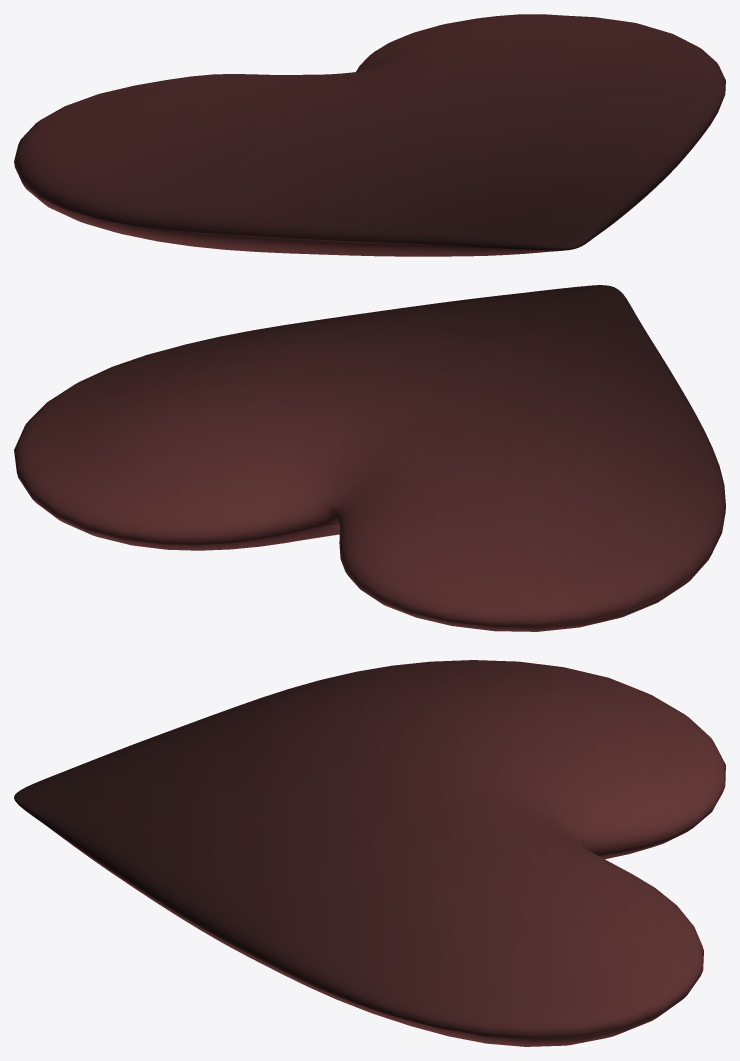
The model's file is heart.glb.
3 renders of one model, top to bottom at view 1: azimuth 30°, elevation 25°; view 2: azimuth 150°, elevation 25°; view 3: azimuth 270°, elevation 25°, orthographic. The views are drawn at different scales.
Visible parts, largest first — view 1: cc_t_heart8; view 2: cc_t_heart8; view 3: cc_t_heart8.
Boxes of the visible parts, x1,y1,x2,y2 form: cc_t_heart8: [14, 14, 725, 256]; cc_t_heart8: [14, 285, 725, 631]; cc_t_heart8: [14, 660, 725, 1046].
Bounding box in the file's own units: 0.1248 × 0.0257 × 0.107.
1 material, 1 textured.
